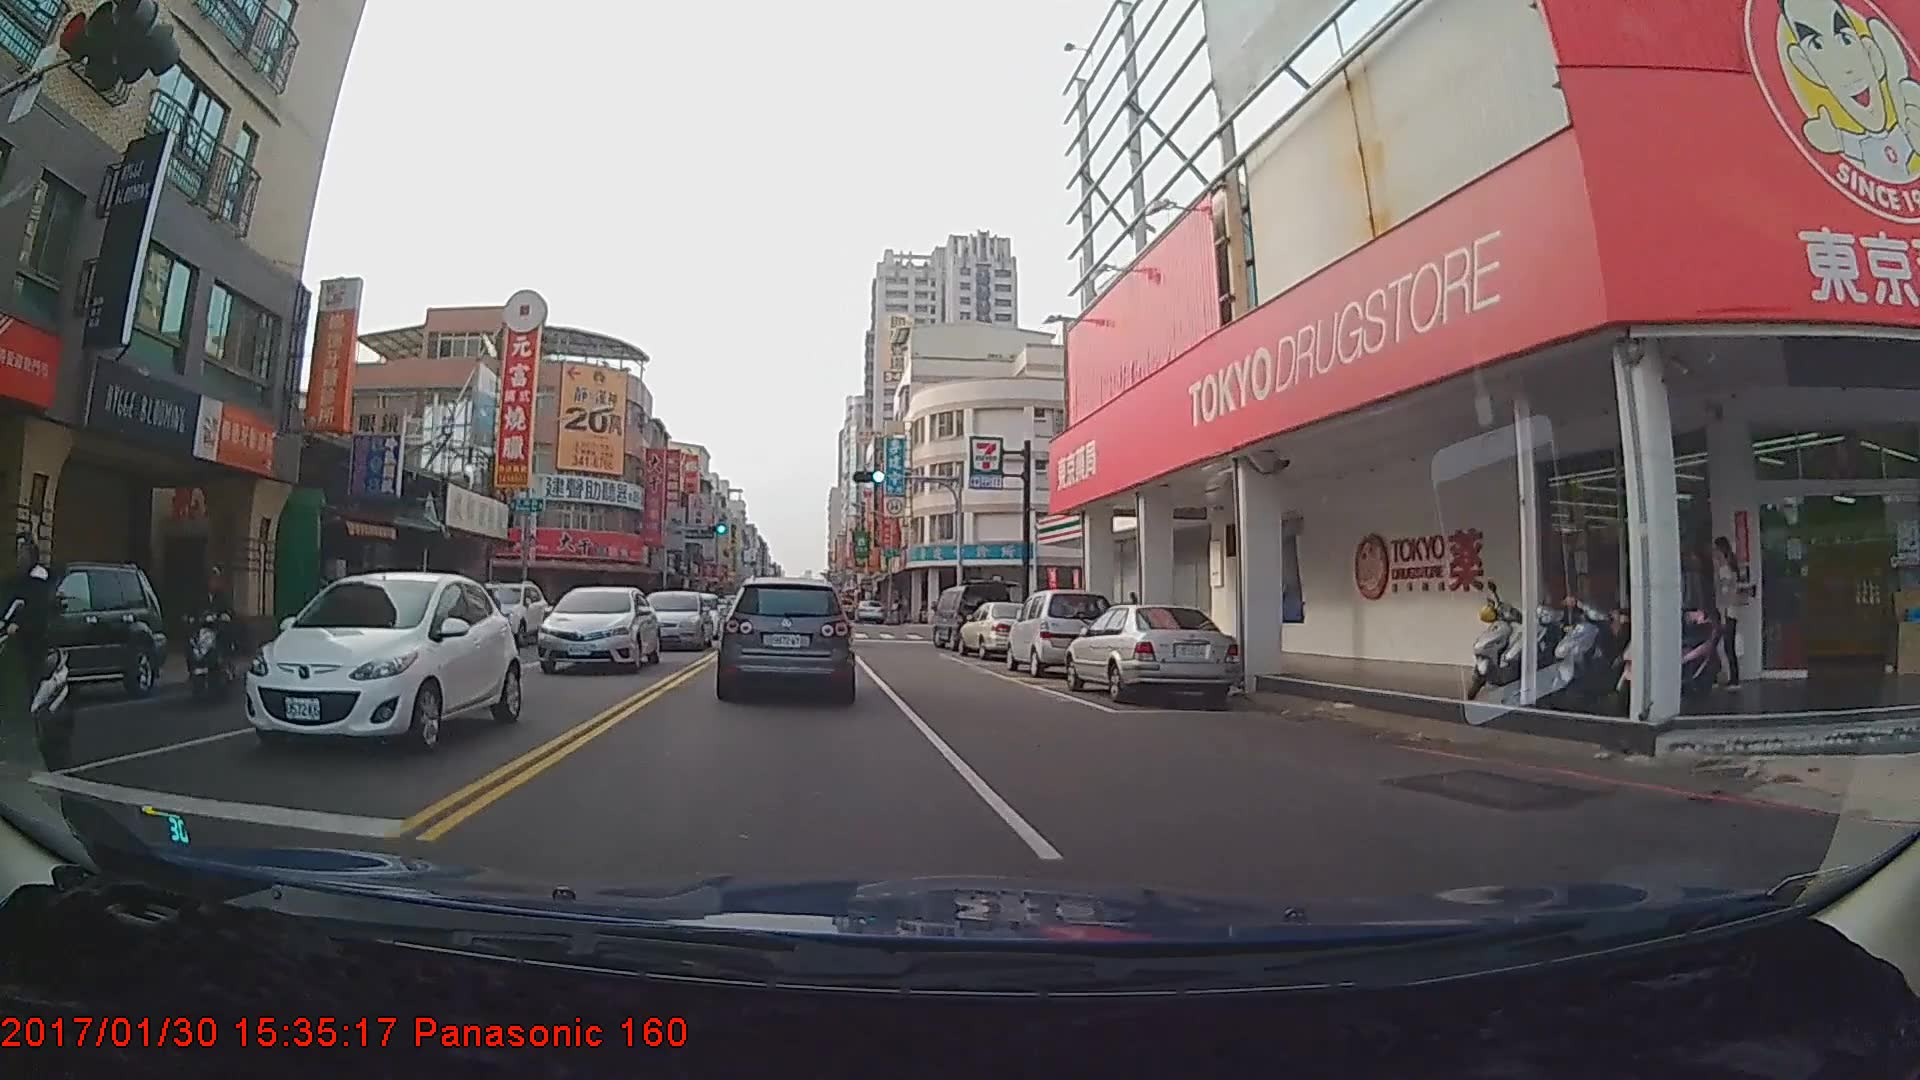pedestrian: (1676, 539, 1723, 692), (1710, 533, 1746, 692)
rider: (180, 566, 249, 703)
vehicle: (222, 567, 508, 761), (0, 559, 163, 698), (1063, 600, 1239, 710), (717, 577, 851, 702), (534, 584, 657, 672), (1001, 585, 1112, 675), (928, 580, 1012, 652), (957, 599, 1050, 660), (460, 579, 546, 644), (634, 588, 712, 651), (854, 597, 884, 622)
